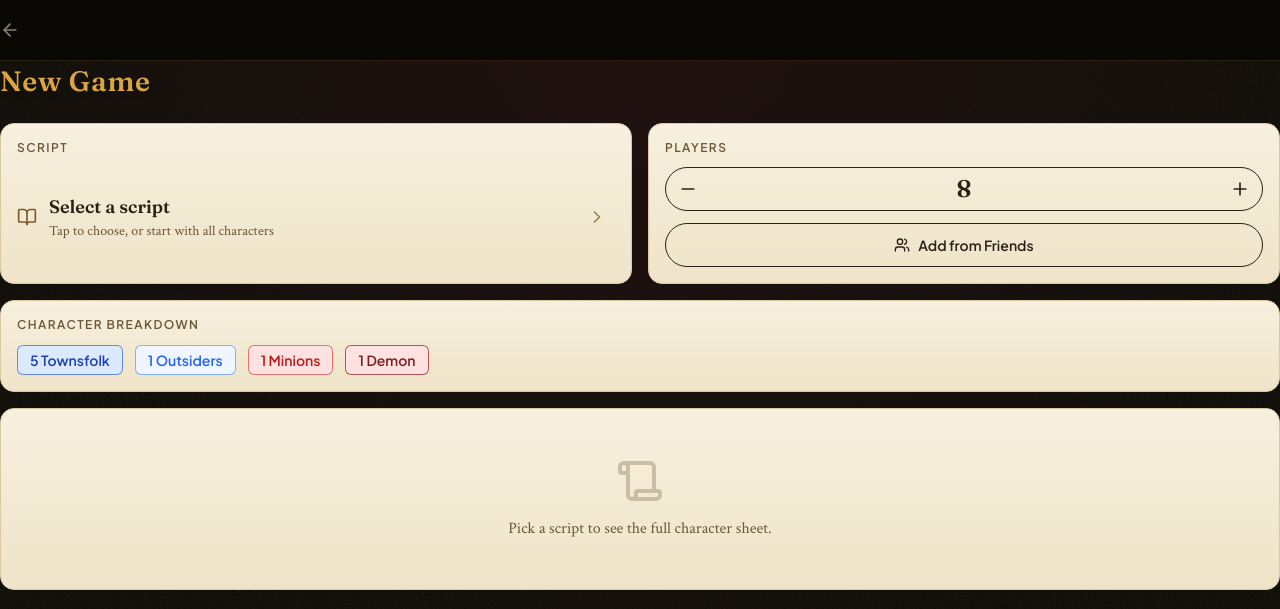
Scenario: SetupWizard script-sheet setup › renders a bottom Jinxes block for in-sheet pairs only
Click the button with test id "button-script-selector" at (110, 207), box left=13, top=163, right=611, bottom=271
(page scrolled)
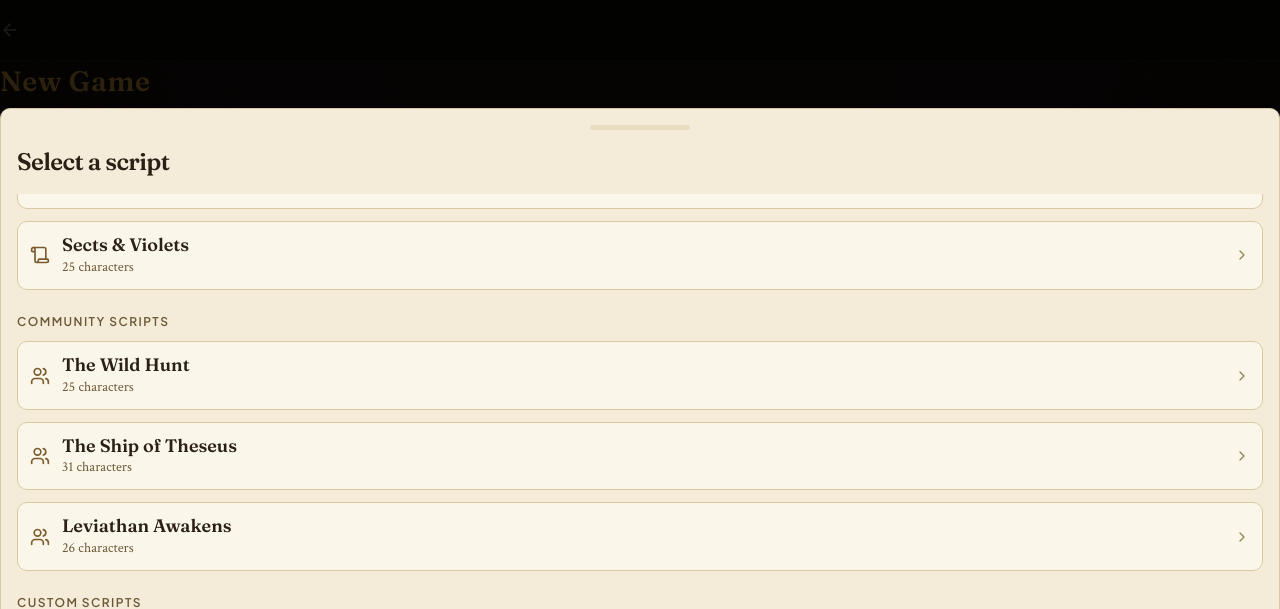
Click the button with test id "button-script-sot" at (149, 445), box left=17, top=422, right=1263, bottom=490
(page scrolled)
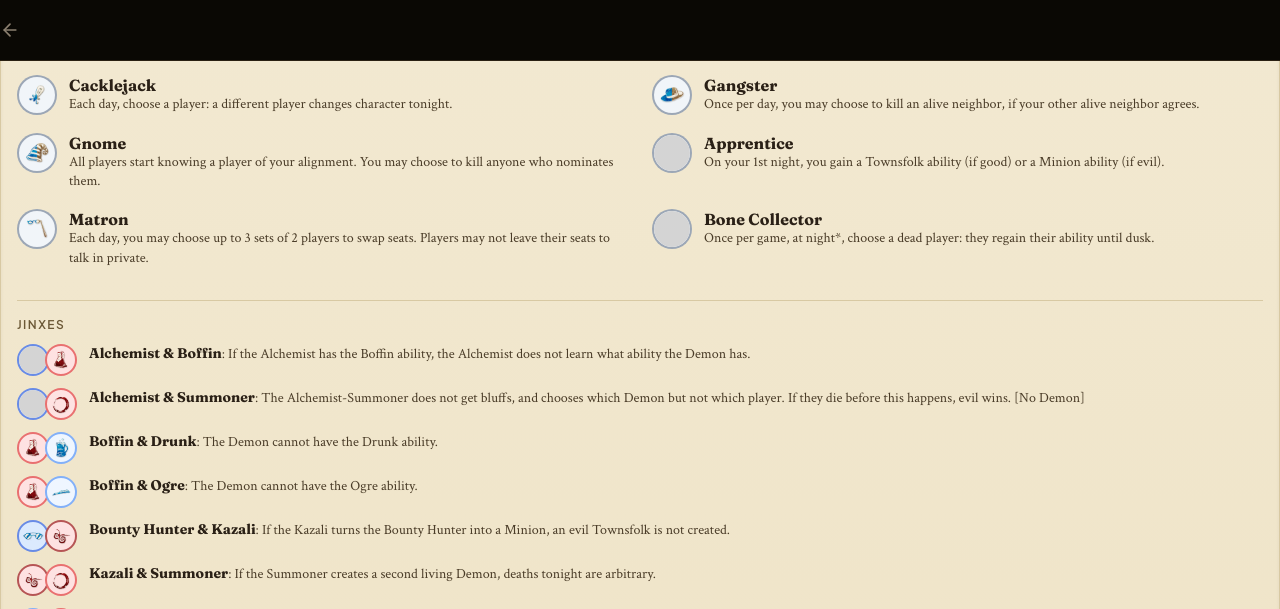
Expected: the element with test id "script-sheet-jinx-alchemist-boffin" is shown, left=17, top=344, right=750, bottom=376
